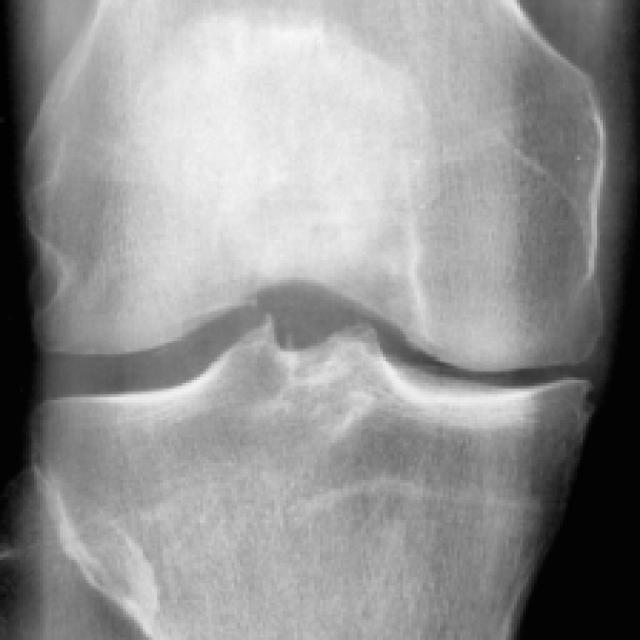femur: (23, 0, 606, 373)
tibia: (32, 320, 596, 640)
